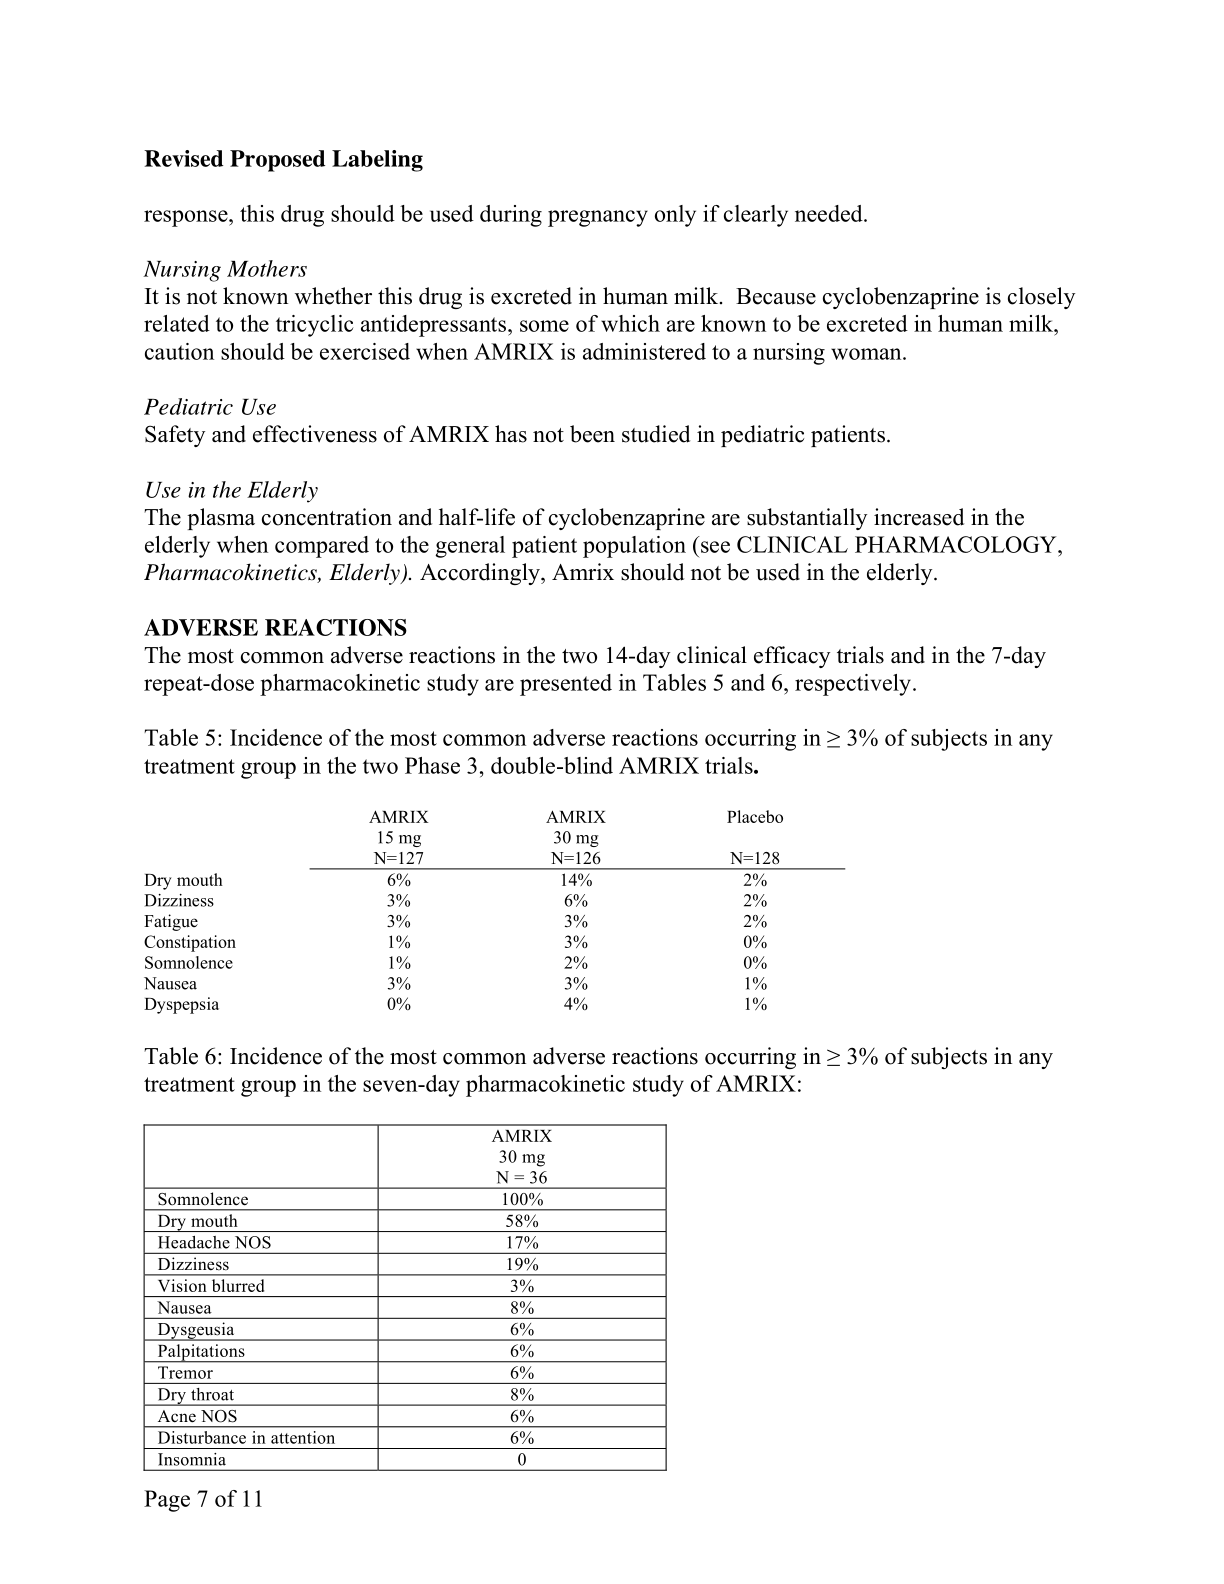full_lined: (141, 1122, 669, 1473)
partial_lined: (141, 804, 847, 1014)
